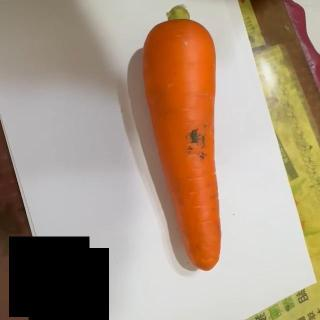carrot: (142, 5, 222, 273)
